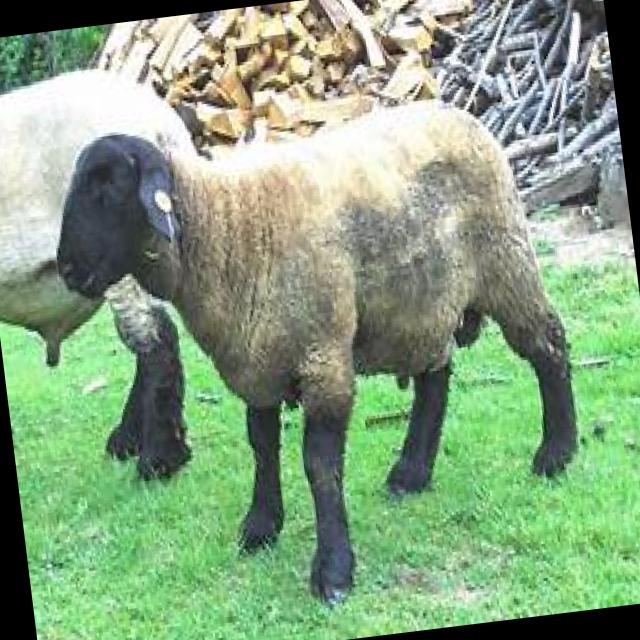sheep: (38, 80, 594, 628)
